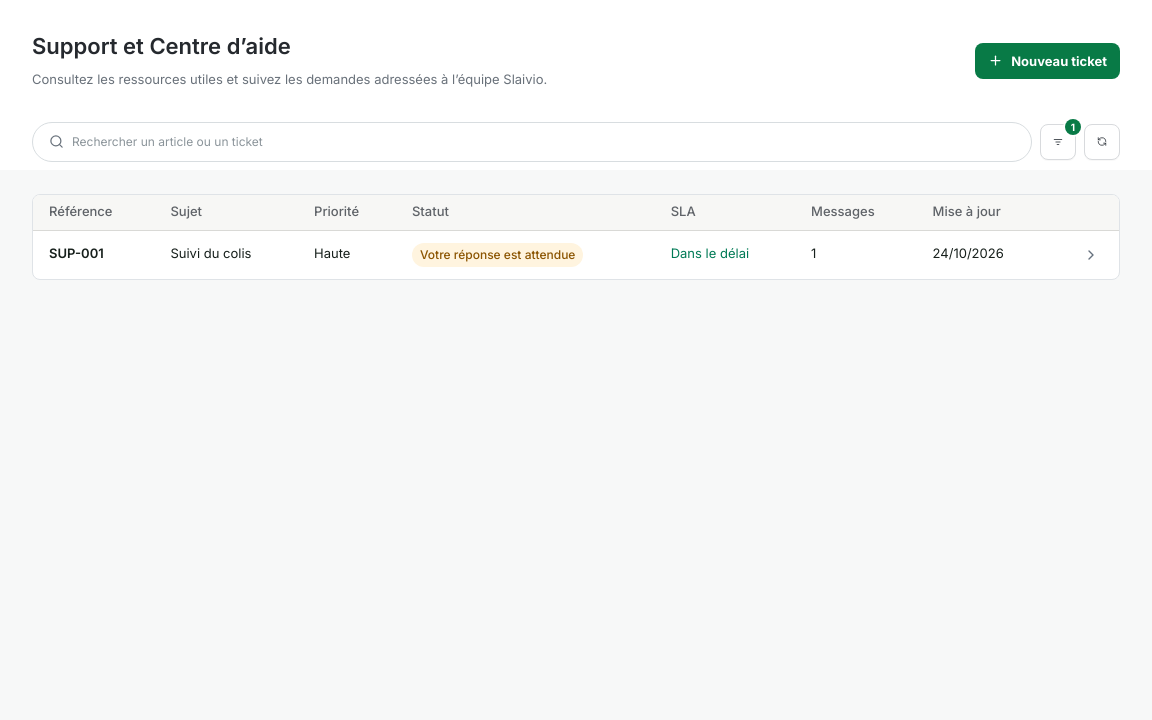
it: keeps the message draft if sending fails
Click the button named "Voir SUP-001".
click(1091, 255)  # box [1075,239,1107,271]
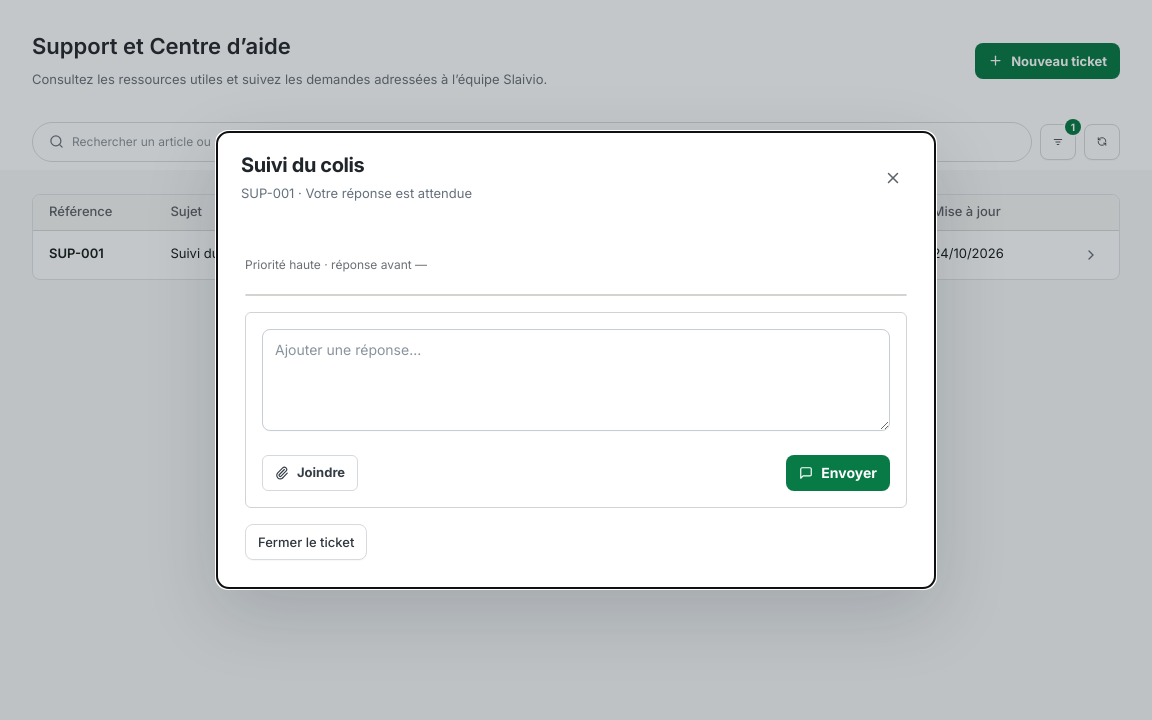
Type "Mon message à conserver" into the text box with placeholder "Ajouter une réponse...".
click(576, 380); type("Mon message à conserver")  # box [262,329,890,431]
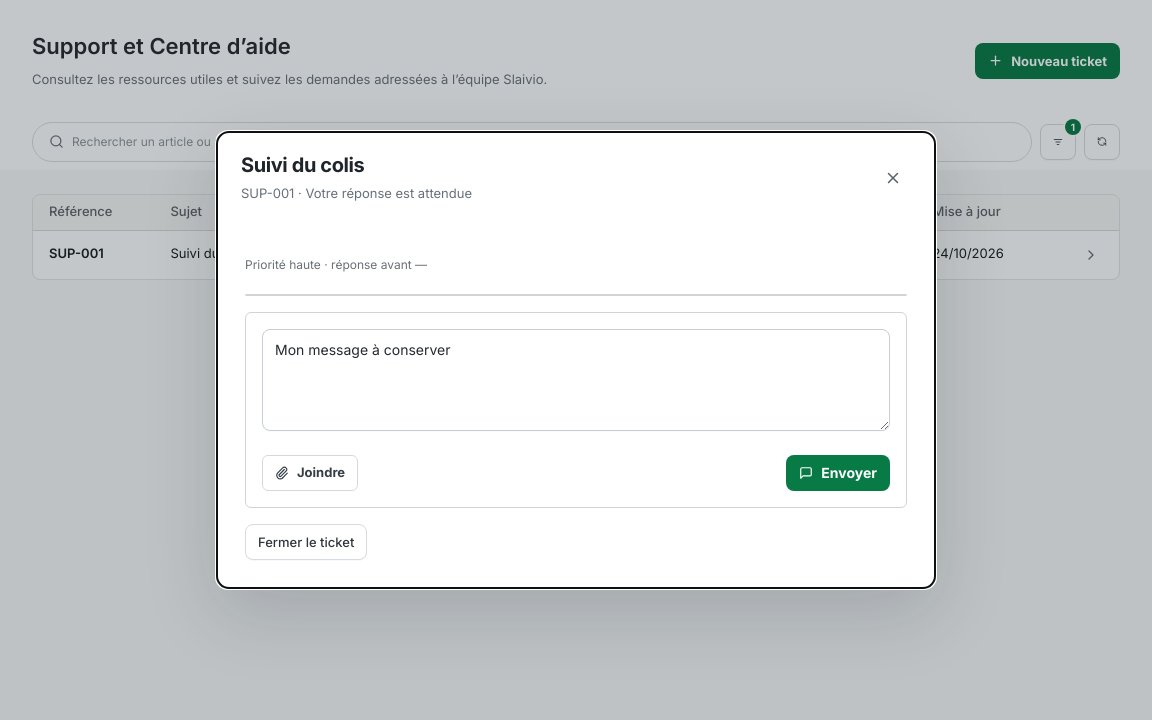
Submit the form with placeholder "Ajouter une réponse...", box [245,312,907,508]
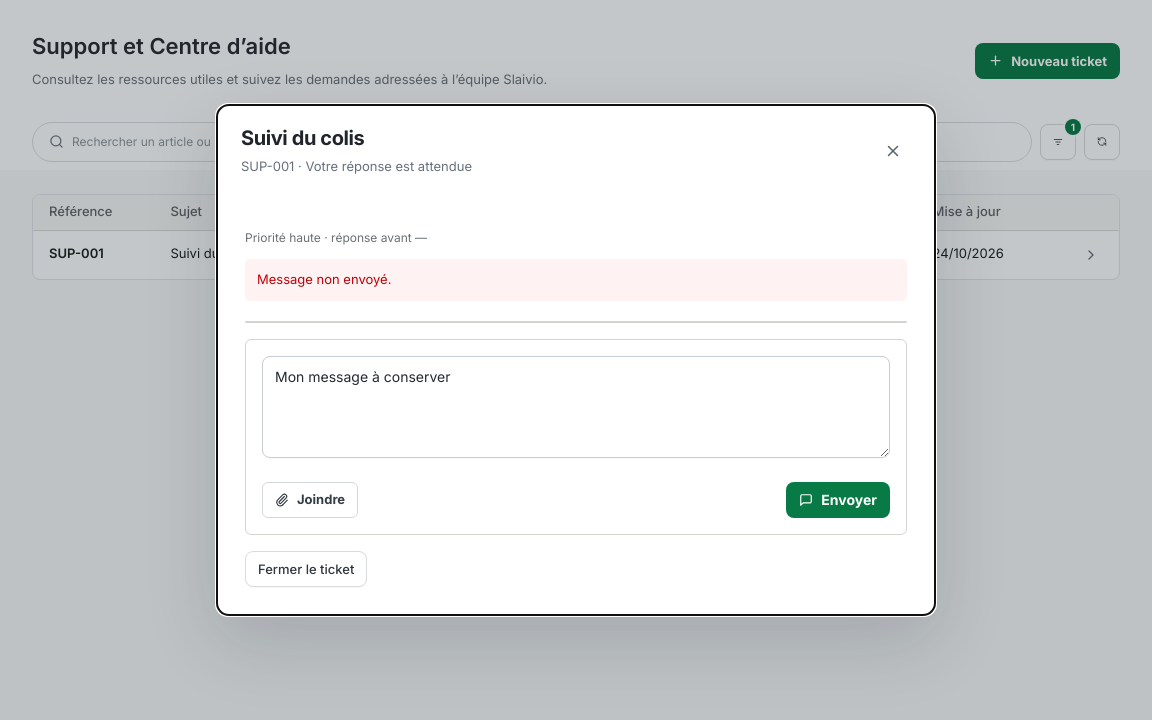
Now the text "Message non envoyé." is shown, box [245,259,907,301]
